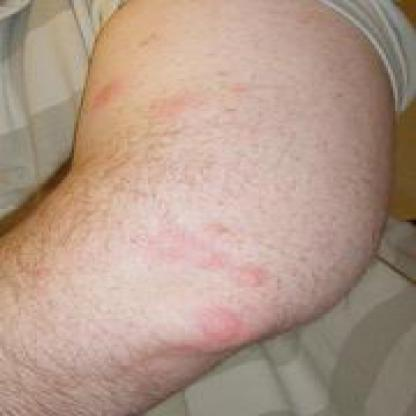Bed Bug: (171, 304, 268, 352), (155, 218, 233, 276), (148, 86, 204, 120), (90, 76, 122, 112), (235, 260, 276, 288)
